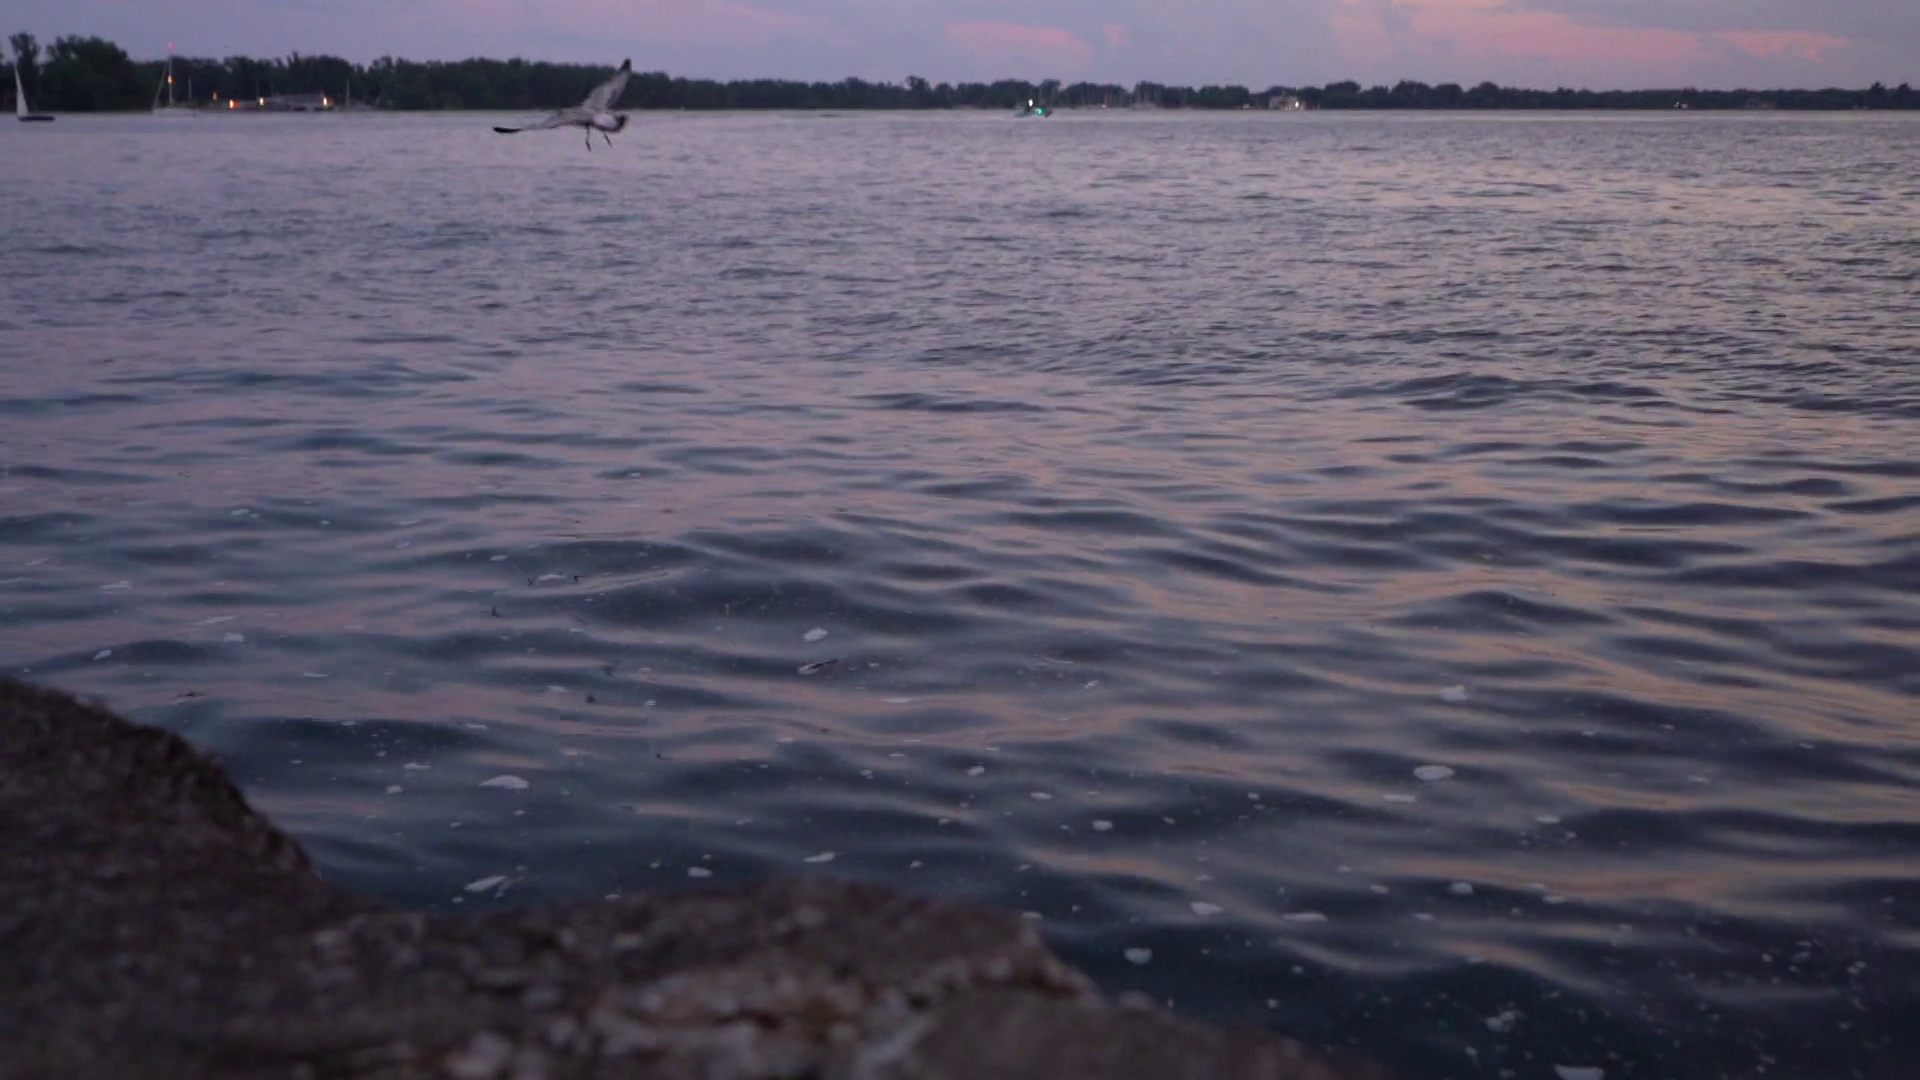bird: (495, 57, 632, 152)
